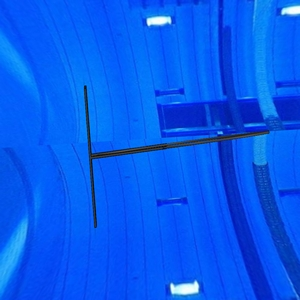circle: (82, 84, 272, 230)
